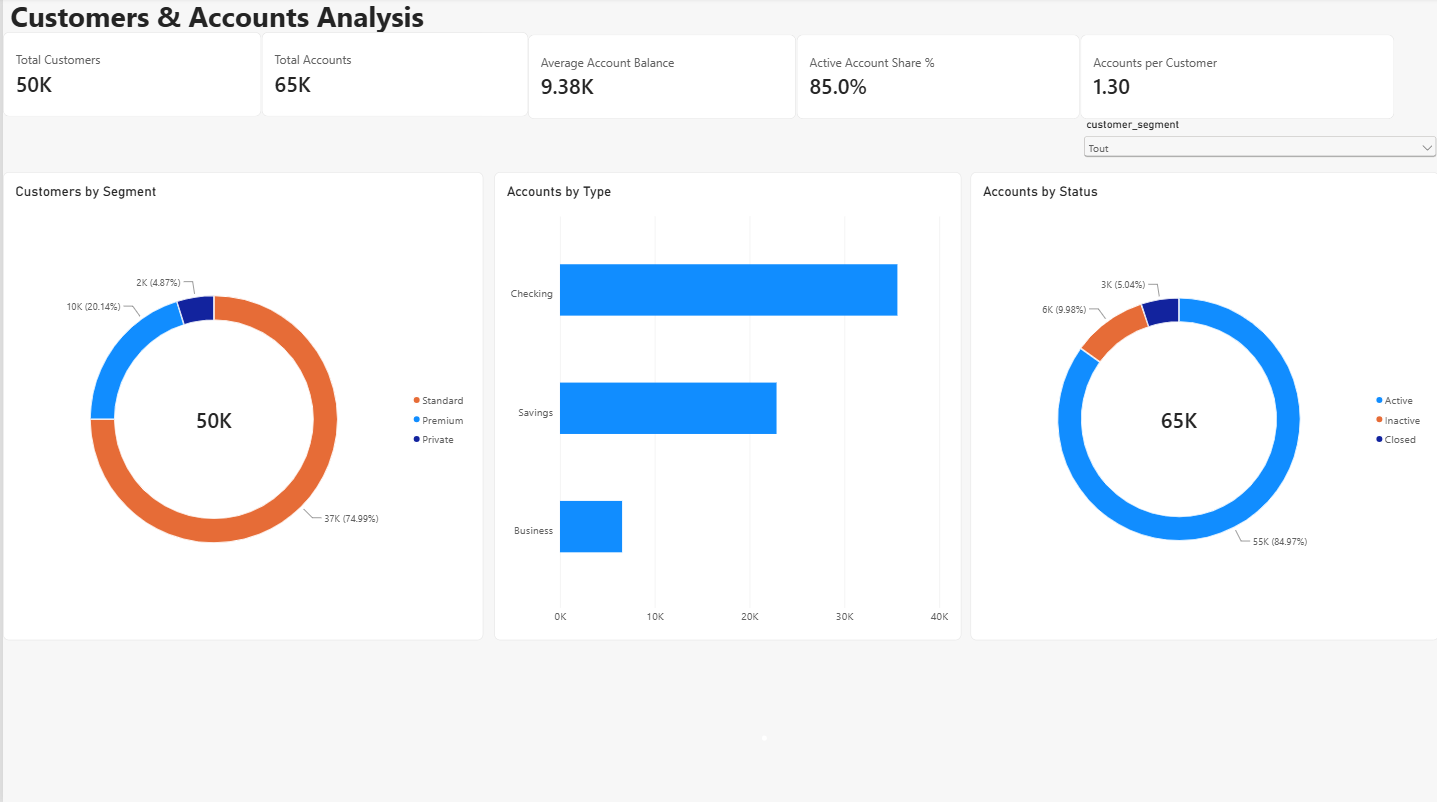

The page's visual inventory and layout, read from the dashboard file:
{"tool":"powerbi","page":{"name":"ustomers & Accounts","canvas":[1920,1080],"ordinal":1},"visuals":[{"type":"textbox","box":[10.3,0,580.4,279.9],"z":0},{"type":"cardVisual","fields":{"Data":["public customers.Total Customers"]},"box":[0,47.3,345.8,113.2],"z":1},{"type":"cardVisual","fields":{"Data":["public accounts.Total Accounts"]},"box":[345.8,47.3,356.1,113.2],"z":2},{"type":"cardVisual","fields":{"Data":["public accounts.Average Account Balance"]},"box":[701.9,49.4,358.1,113.2],"z":3},{"type":"cardVisual","fields":{"Data":["public accounts.Active Account Share %"]},"box":[1060,49.4,378.7,113.2],"z":4},{"type":"cardVisual","fields":{"Data":["public accounts.Accounts per Customer"]},"box":[1438.8,49.4,419.9,113.2],"z":5},{"type":"donutChart","title":"Customers by Segment","fields":{"Category":["public customers.customer_segment"],"Y":["public customers.Total Customers"]},"box":[0,234.5,641.8,625.5],"z":6},{"type":"barChart","title":"Accounts by Type","fields":{"Category":["public accounts.account_type"],"Y":["public accounts.Total Accounts"]},"box":[656.4,234.5,623.6,625.5],"z":7},{"type":"donutChart","title":"Accounts by Status","fields":{"Category":["public accounts.status"],"Y":["public accounts.Total Accounts"]},"box":[1292.7,234.5,627.3,625.5],"z":8},{"type":"slicer","fields":{"Values":["public customers.customer_segment"]},"box":[1438.8,162.6,481.6,117.3],"z":9}]}

Visuals, with their boxes in screenshot pixels (x1, y1, x2, y2), scaled from the page's 1920x1080 canvas onto the 1437x802 screenshot:
textbox: crop(8, 0, 442, 208)
cardVisual - public customers.Total Customers: crop(0, 35, 259, 119)
cardVisual - public accounts.Total Accounts: crop(259, 35, 525, 119)
cardVisual - public accounts.Average Account Balance: crop(525, 37, 793, 121)
cardVisual - public accounts.Active Account Share %: crop(793, 37, 1077, 121)
cardVisual - public accounts.Accounts per Customer: crop(1077, 37, 1391, 121)
"Customers by Segment" donutChart: crop(0, 174, 480, 639)
"Accounts by Type" barChart: crop(491, 174, 958, 639)
"Accounts by Status" donutChart: crop(968, 174, 1436, 639)
slicer - public customers.customer_segment: crop(1077, 121, 1436, 208)
